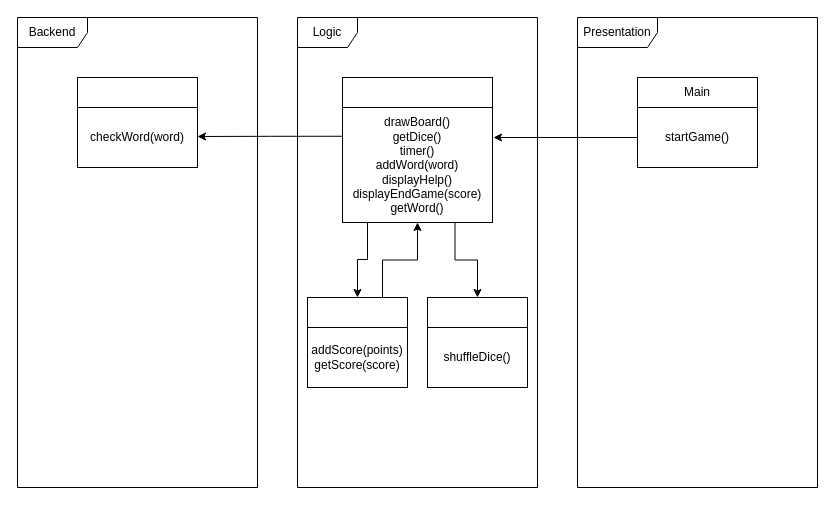
Image size: 835x505. Some labels were removed from this diagram. Each missing label, with the centre of its shape:
"Dice" goes at point 477,312.
"GameBoard" goes at point 417,92.
"GameScore" goes at point 357,312.
"WordCheckingAPI" goes at point 137,92.
